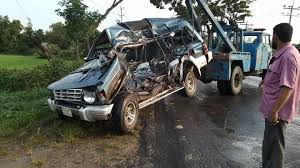accident: (49, 27, 208, 121)
